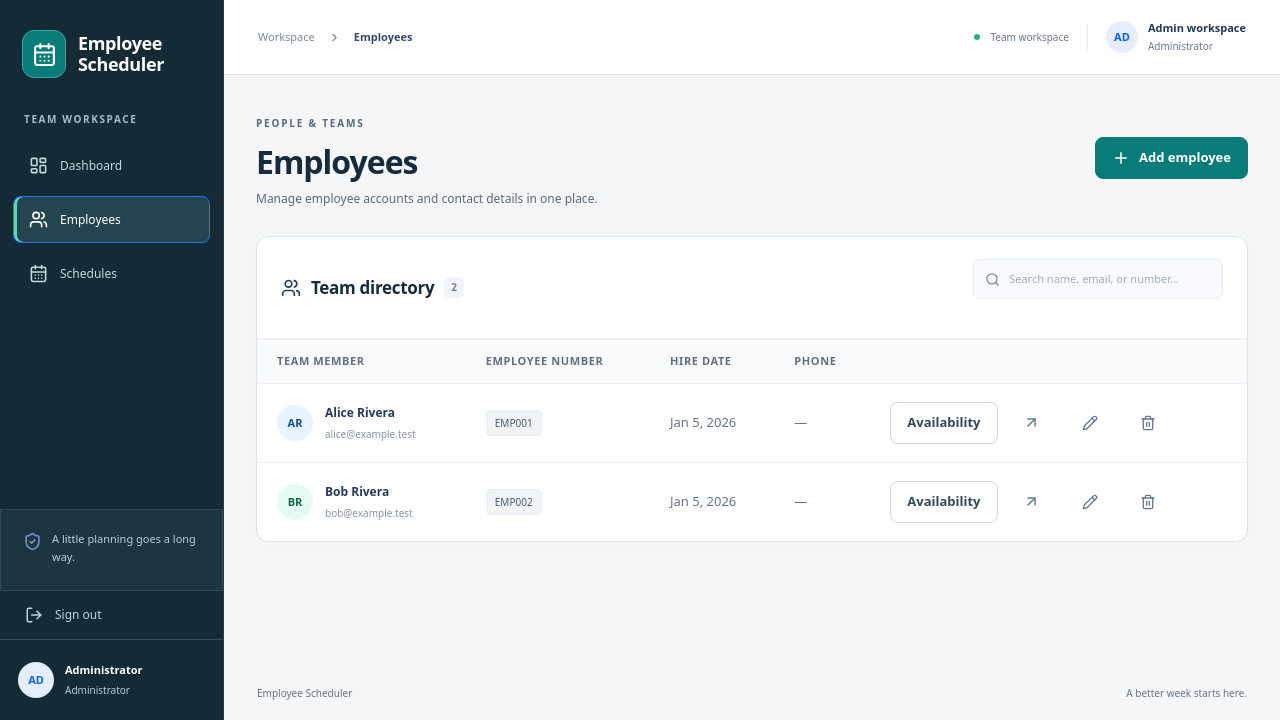
Test case: admin reads weekly availability without edit controls
The width and height of the screenshot is (1280, 720).
Click the button "Availability" in the row of "EMP001": [944, 423] box x1=890 y1=402 x2=998 y2=444
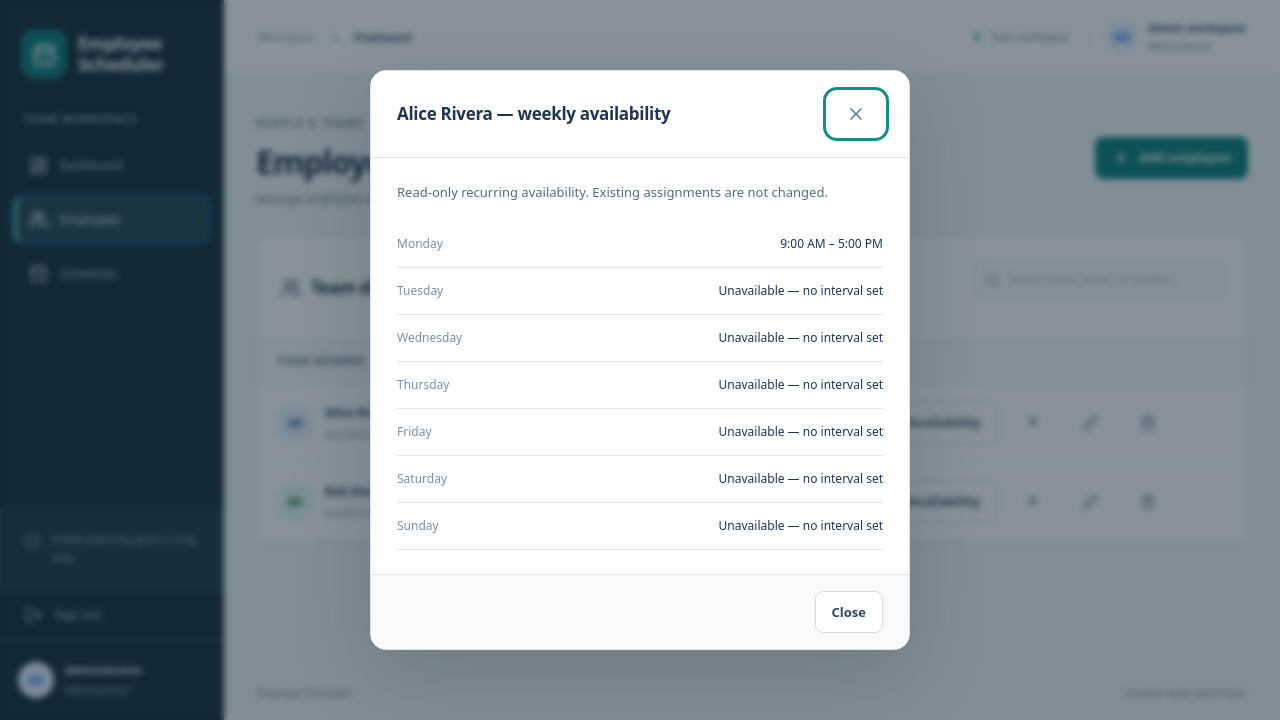
Expected: the text "9:00 AM – 5:00 PM" is shown, x1=780 y1=235 x2=883 y2=253
Expected: the text "Unavailable — no interval set" is shown 6 times, x1=719 y1=282 x2=883 y2=300; x1=719 y1=329 x2=883 y2=347; x1=719 y1=376 x2=883 y2=394; x1=719 y1=423 x2=883 y2=441; x1=719 y1=470 x2=883 y2=488; x1=719 y1=517 x2=883 y2=535
